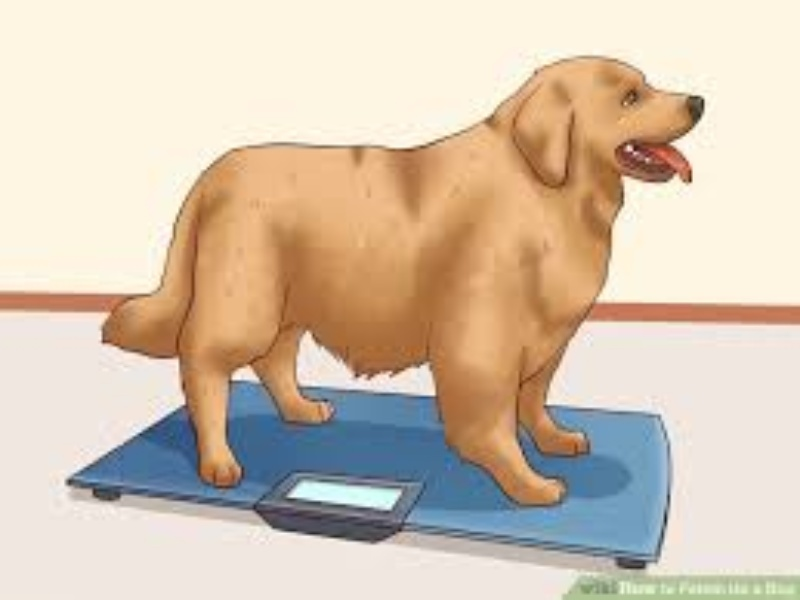dog: (96, 53, 724, 537)
